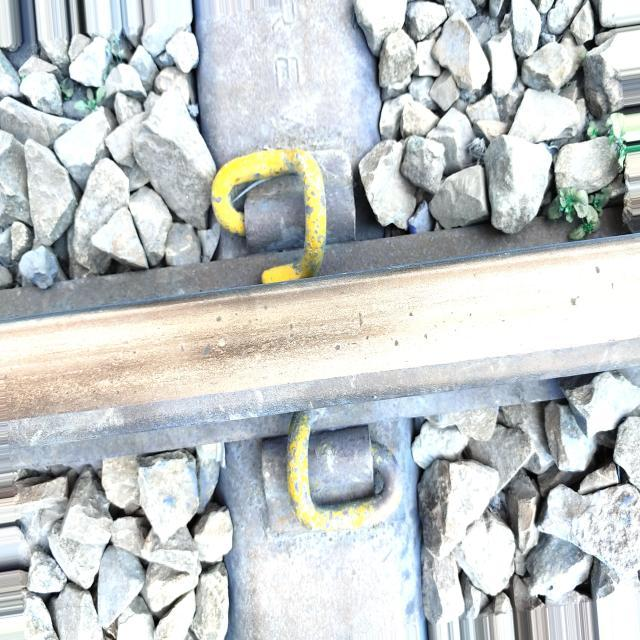Good Fasteners: (211, 149, 355, 282), (262, 411, 402, 534)
